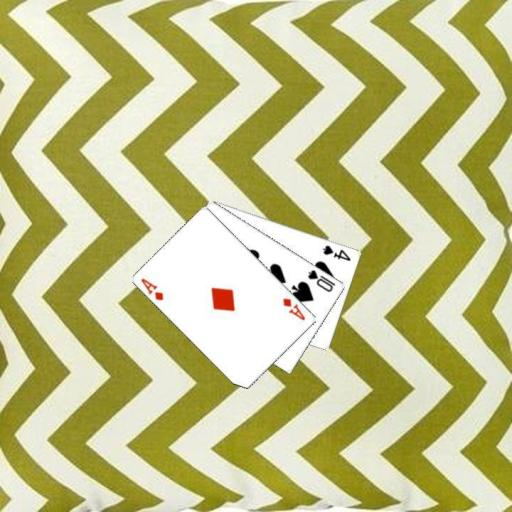card-corner: (305, 266, 337, 294), (280, 295, 307, 322), (138, 275, 165, 302), (320, 242, 352, 262)
